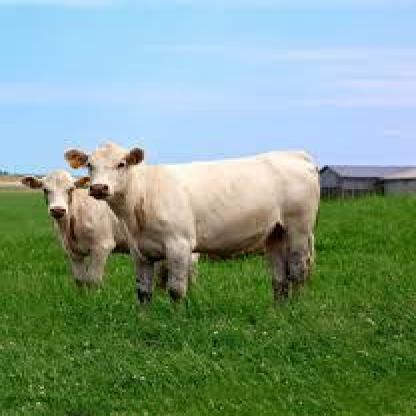cow: (65, 143, 319, 306), (21, 168, 141, 292)
